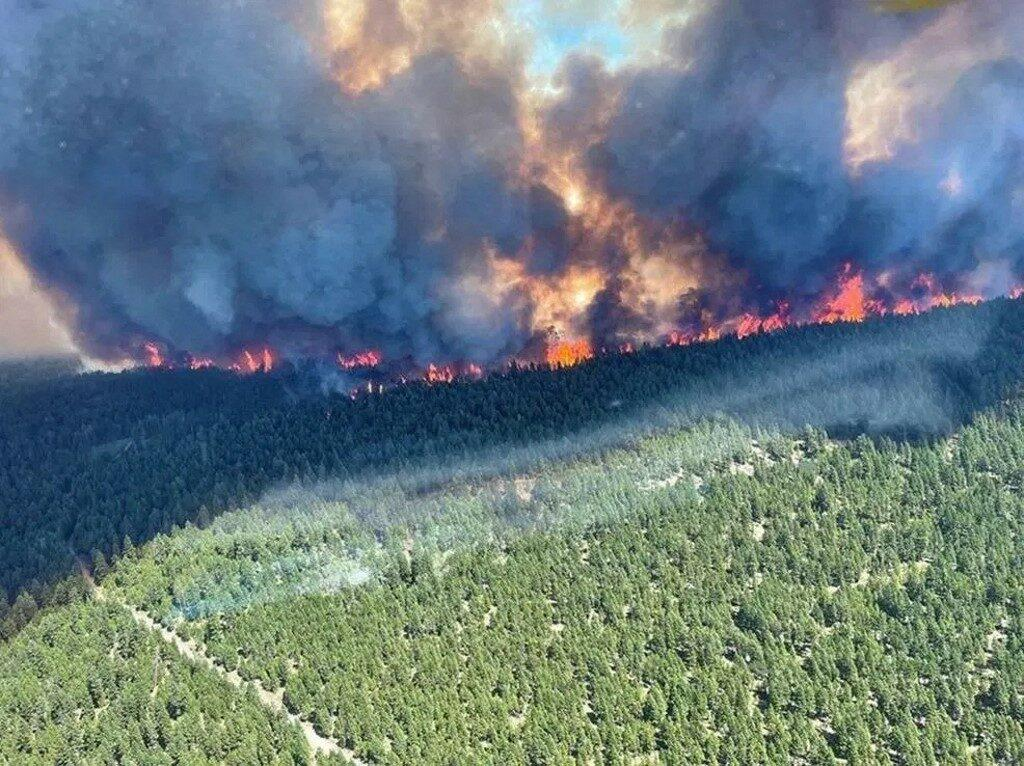fire: (138, 335, 280, 394), (328, 349, 475, 400), (669, 294, 784, 350), (530, 324, 609, 396), (809, 265, 878, 337)
smoke: (496, 14, 1024, 268), (0, 159, 549, 369)
